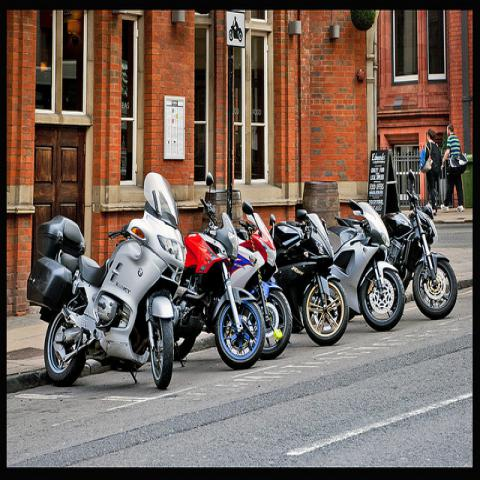motorcycle: (27, 172, 186, 393), (177, 195, 263, 366), (270, 209, 354, 347), (384, 168, 457, 320), (330, 200, 404, 330), (239, 206, 293, 357)
